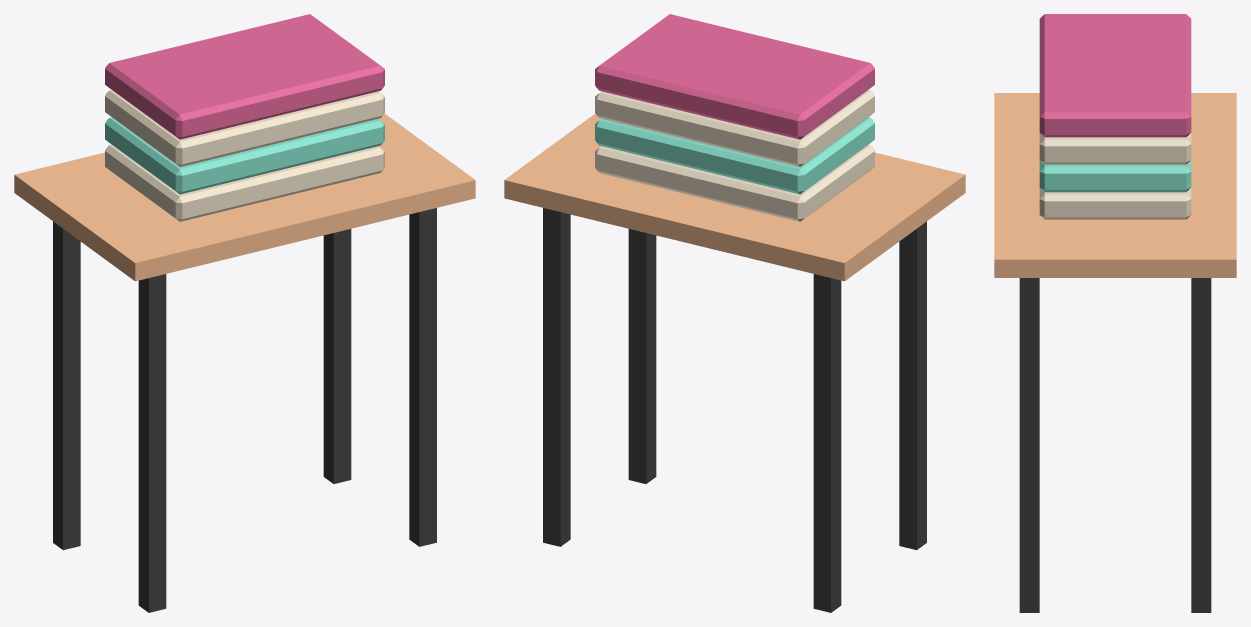
3 views of the same model, side by side, from view 1: azimuth 30°, elevation 25°; view 2: azimuth 150°, elevation 25°; view 3: azimuth 270°, elevation 25° (orthographic).
Parts seen in each view (by area): view 1: Display tabletop, towels3, Display support leg, Display support leg.002, Display support leg.001, towels1, towels2, towels0, Display support leg.003; view 2: Display tabletop, towels3, Display support leg.001, Display support leg.003, Display support leg, towels1, towels2, towels0, Display support leg.002; view 3: Display tabletop, towels3, Display support leg.002, Display support leg.003, towels1, towels0, towels2.
Part boxes in pixels (x1=…): Display tabletop: x1=14, y1=113, x2=475, y2=281; towels3: x1=105, y1=14, x2=384, y2=139; Display support leg: x1=138, y1=274, x2=166, y2=612; Display support leg.002: x1=409, y1=208, x2=436, y2=546; Display support leg.001: x1=53, y1=221, x2=80, y2=550; towels1: x1=105, y1=117, x2=384, y2=194; towels2: x1=105, y1=90, x2=384, y2=166; towels0: x1=105, y1=144, x2=384, y2=221; Display support leg.003: x1=323, y1=229, x2=351, y2=483; Display tabletop: x1=504, y1=113, x2=965, y2=281; towels3: x1=595, y1=14, x2=874, y2=139; Display support leg.001: x1=813, y1=274, x2=841, y2=612; Display support leg.003: x1=543, y1=208, x2=570, y2=546; Display support leg: x1=899, y1=221, x2=926, y2=550; towels1: x1=595, y1=117, x2=874, y2=194; towels2: x1=595, y1=90, x2=874, y2=166; towels0: x1=595, y1=144, x2=874, y2=221; Display support leg.002: x1=628, y1=229, x2=656, y2=483; Display tabletop: x1=994, y1=93, x2=1236, y2=277; towels3: x1=1039, y1=14, x2=1191, y2=137; Display support leg.002: x1=1019, y1=278, x2=1039, y2=612; Display support leg.003: x1=1191, y1=278, x2=1211, y2=612; towels1: x1=1039, y1=160, x2=1191, y2=192; towels0: x1=1039, y1=188, x2=1191, y2=219; towels2: x1=1039, y1=133, x2=1191, y2=164.
Bounding box in the file's own units: 0.78 × 1.05 × 0.48.
1 material, 1 textured.
